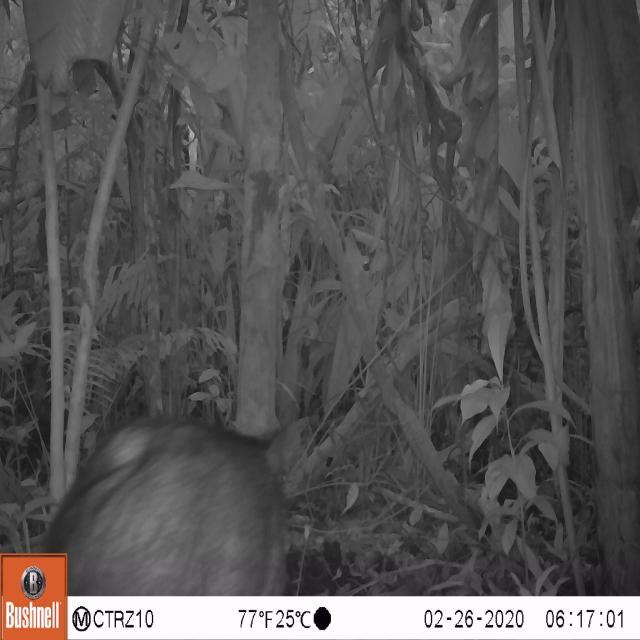Collared Peccary: (40, 412, 297, 596)
